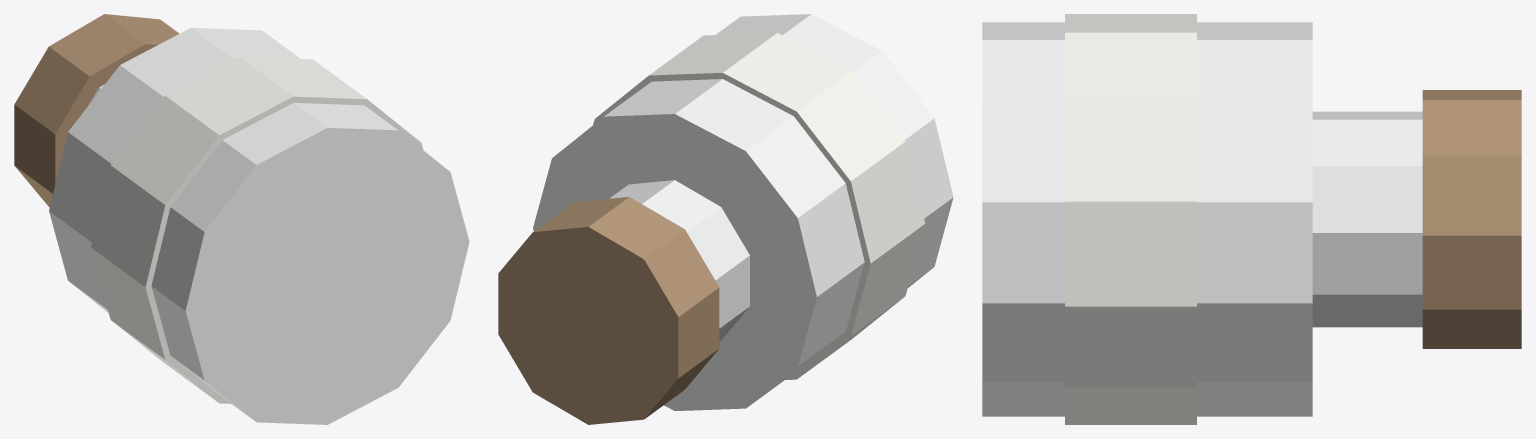
The model's file is white_dye_held.gltf.
3 views of the same model, side by side, from view 1: azimuth 30°, elevation 25°; view 2: azimuth 150°, elevation 25°; view 3: azimuth 270°, elevation 25° (orthographic). The views are drawn at different scales.
Parts seen in each view (by area): view 1: colors_white_dye_held; view 2: colors_white_dye_held; view 3: colors_white_dye_held.
Part boxes in pixels (<box>): colors_white_dye_held: <box>14,14,469,424</box>; colors_white_dye_held: <box>498,14,953,424</box>; colors_white_dye_held: <box>982,14,1521,424</box>.
Bounding box in the file's own units: 0.075 × 0.075 × 0.098.
